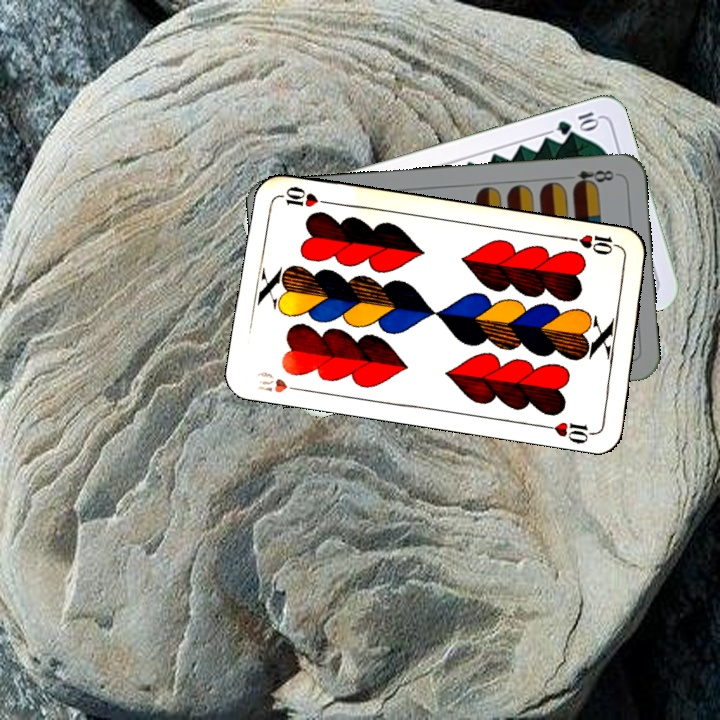E8: (560, 166, 617, 190)
G10: (553, 107, 602, 138)
H10: (251, 367, 308, 396), (565, 230, 624, 258)
